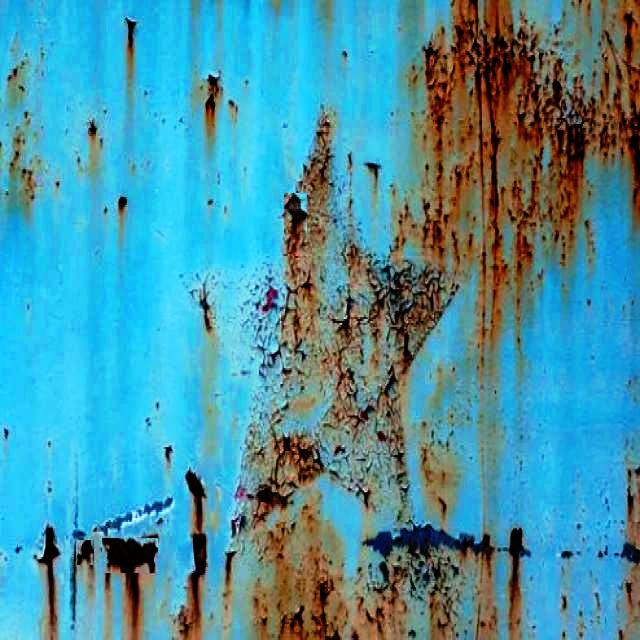Corrosion: (226, 115, 496, 640), (393, 0, 640, 338), (104, 539, 156, 640), (177, 471, 207, 640), (241, 264, 289, 369), (35, 526, 60, 640), (624, 468, 640, 640), (510, 529, 525, 640), (205, 74, 221, 134), (126, 17, 137, 88), (199, 284, 213, 332), (623, 543, 640, 564), (511, 529, 524, 556), (70, 568, 75, 628), (80, 541, 93, 562), (118, 196, 127, 208)
